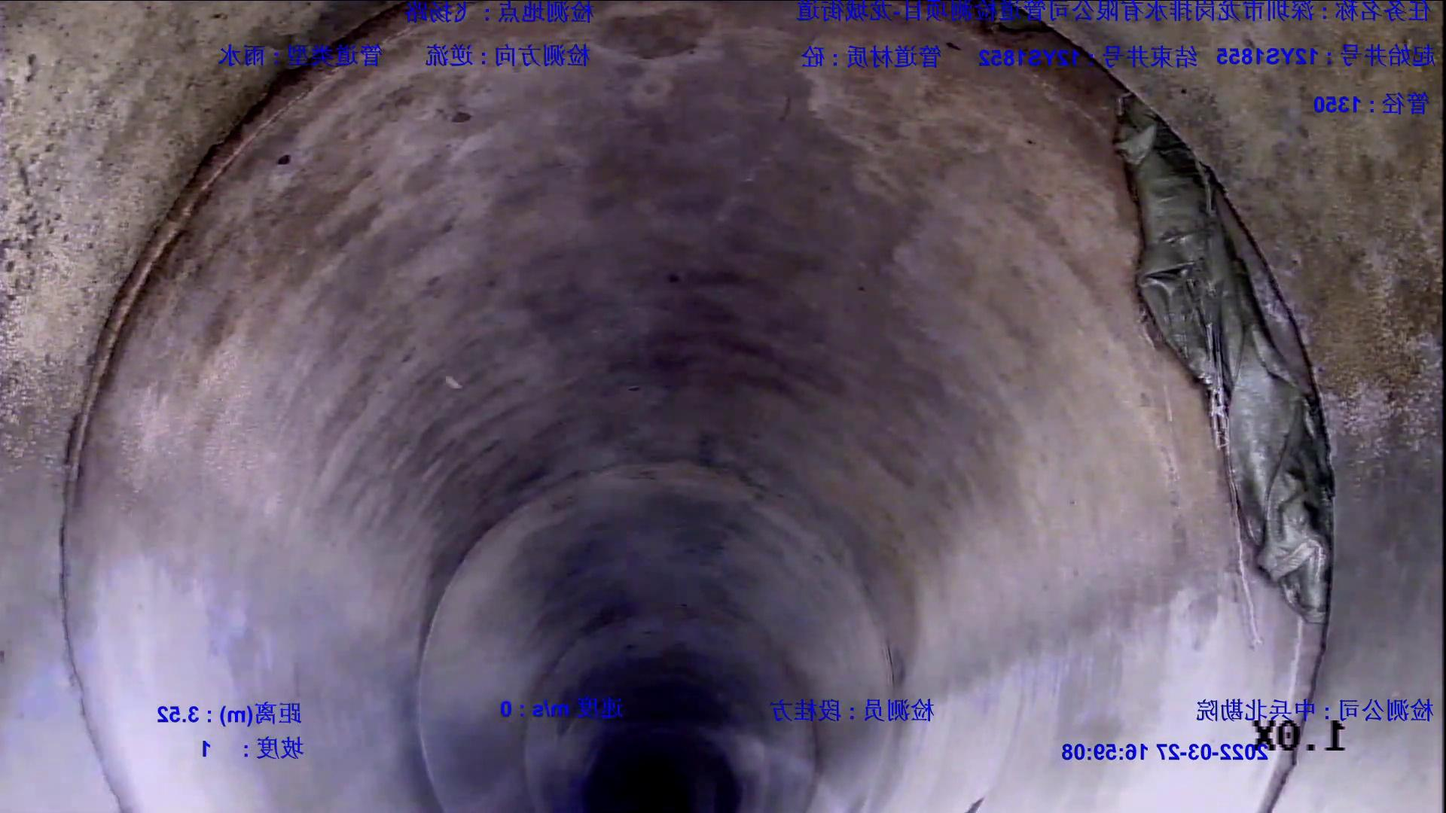CKTJ: (64, 65, 333, 488), (342, 3, 409, 40)
JKCL: (1115, 93, 1333, 623)
